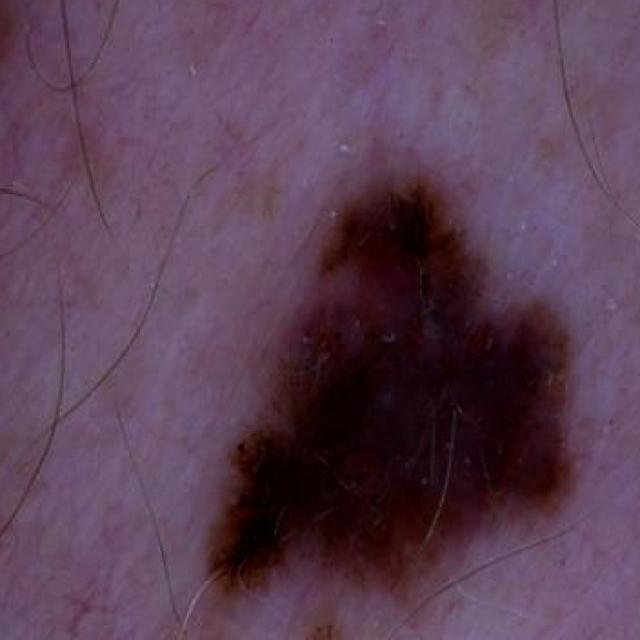MEL: (158, 166, 580, 640)
